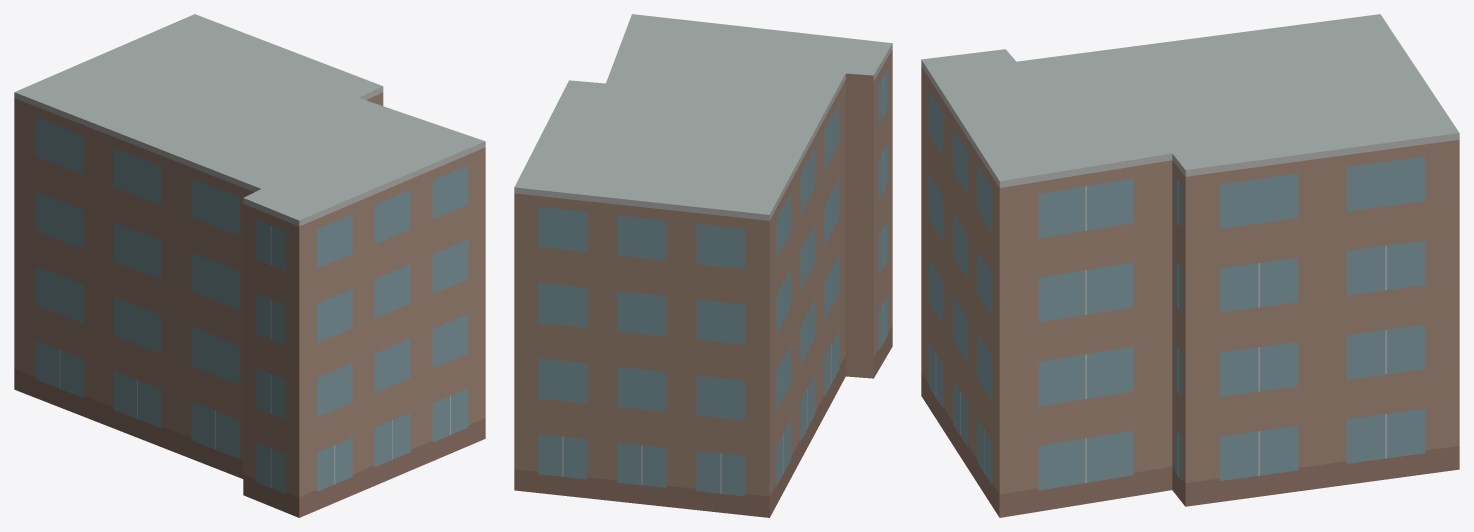
Rendered from survey-upis-32520962.glb.
The picture shows the model from 3 angles, left to right: view 1: azimuth 30°, elevation 25°; view 2: azimuth 150°, elevation 25°; view 3: azimuth 270°, elevation 25°; orthographic projection. The views are drawn at different scales.
Parts seen in each view (by area): view 1: survey-upis-32520962.tmp; view 2: survey-upis-32520962.tmp; view 3: survey-upis-32520962.tmp.
Boxes of the visible parts, <box> form: survey-upis-32520962.tmp: <box>14,14,485,517</box>; survey-upis-32520962.tmp: <box>514,14,892,517</box>; survey-upis-32520962.tmp: <box>921,14,1459,517</box>.
Bounding box in the file's own units: 13.25 × 12.4 × 17.99.
